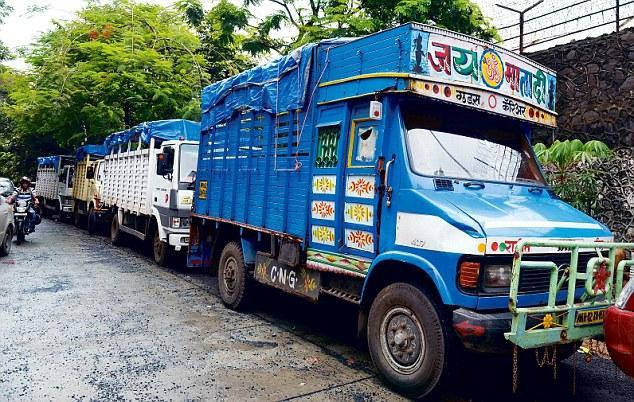truck: (196, 76, 634, 355), (95, 129, 196, 257), (30, 152, 84, 209)
